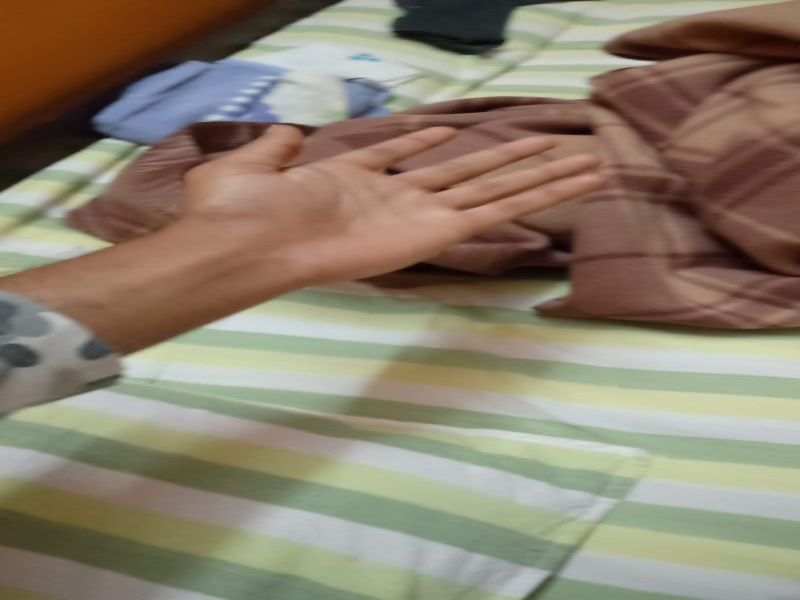Hand: (167, 109, 613, 311)
